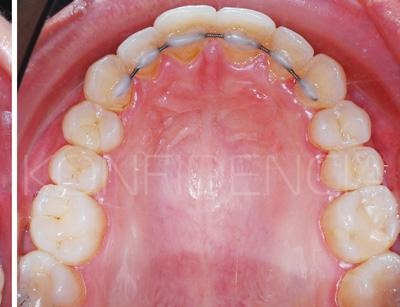UL1BC_healthy: (308, 100, 370, 149)
UL1M_healthy: (324, 185, 398, 261)
UL2BC_healthy: (324, 147, 383, 189)
ULCI_decay: (216, 6, 274, 64)
ULC_decay: (295, 53, 345, 108)
ULLI_decay: (271, 26, 314, 79)
UR1BC_healthy: (63, 101, 121, 151)
UR1M_decay: (31, 186, 103, 261)
UR2BC_healthy: (50, 147, 106, 191)
UR2M_healthy: (21, 251, 76, 294)
URCI_decay: (156, 6, 215, 62)
URC_decay: (84, 55, 134, 110)
URLI_decay: (118, 27, 158, 77)
